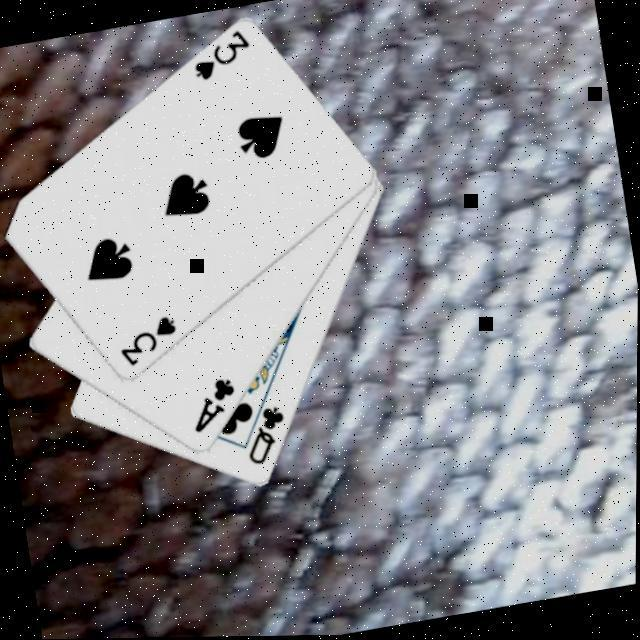3S: (187, 24, 259, 85), (115, 310, 186, 370)
AC: (186, 372, 246, 436)
QC: (240, 400, 297, 470)
